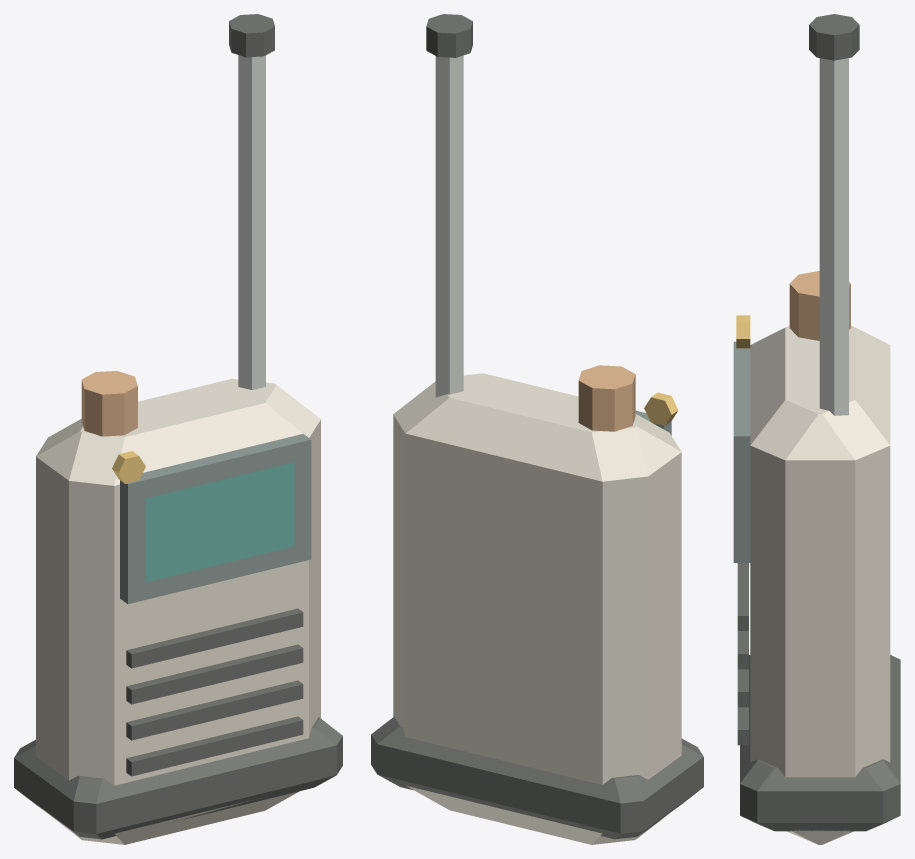
File: lab_radio_handheld.glb
3 renders of one model, left to right at view 1: azimuth 30°, elevation 25°; view 2: azimuth 150°, elevation 25°; view 3: azimuth 270°, elevation 25°, orthographic. The views are drawn at different scales.
Parts seen in each view (by area): view 1: lab_radio_handheld, Display, Led; view 2: lab_radio_handheld, Led; view 3: lab_radio_handheld, Led.
Boxes of the visible parts, left/top/right/bottom form: lab_radio_handheld: left=14, top=14, right=342, bottom=844; Display: left=145, top=462, right=294, bottom=582; Led: left=112, top=451, right=145, bottom=483; lab_radio_handheld: left=371, top=14, right=703, bottom=844; Led: left=644, top=392, right=678, bottom=425; lab_radio_handheld: left=733, top=14, right=900, bottom=844; Led: left=736, top=315, right=750, bottom=348.
Bounding box in the file's own units: 0.235 × 0.64 × 0.1205.
